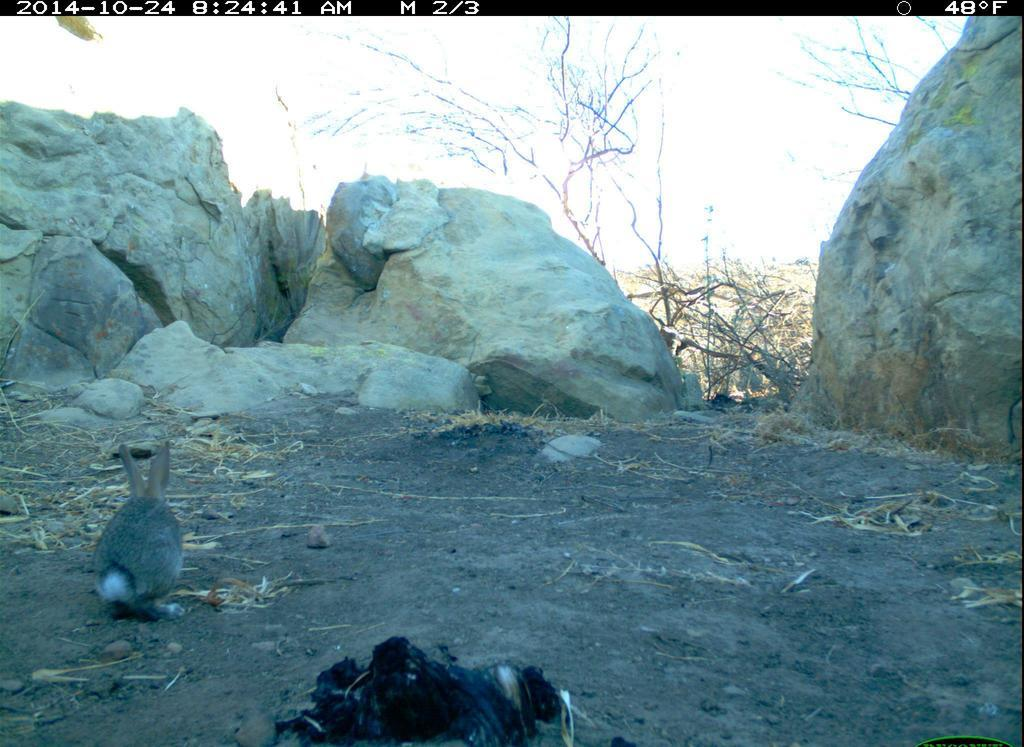rabbit: (61, 387, 254, 647)
